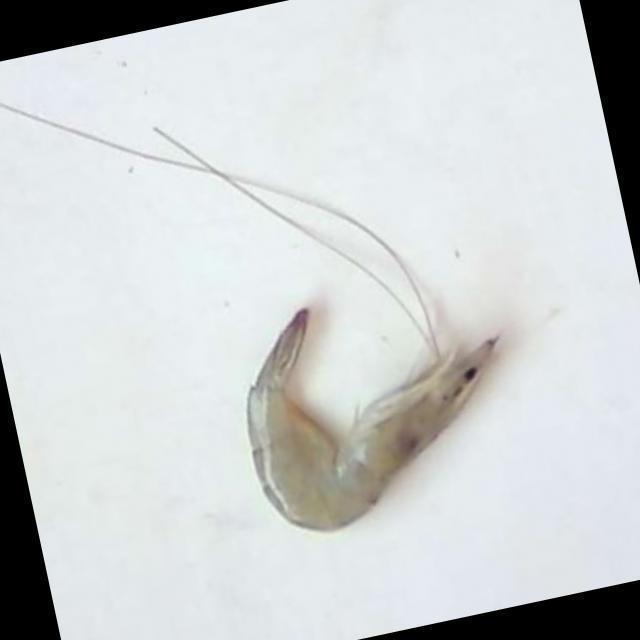shrimp: (248, 310, 499, 532)
